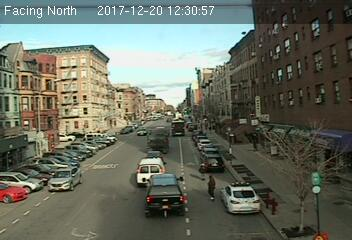car: (144, 174, 187, 216), (46, 167, 83, 191), (203, 154, 224, 172), (144, 149, 166, 163)
pedestrian: (206, 174, 219, 202)
police: (218, 180, 260, 214)
truck: (135, 157, 167, 187)
ups: (171, 120, 185, 137)
